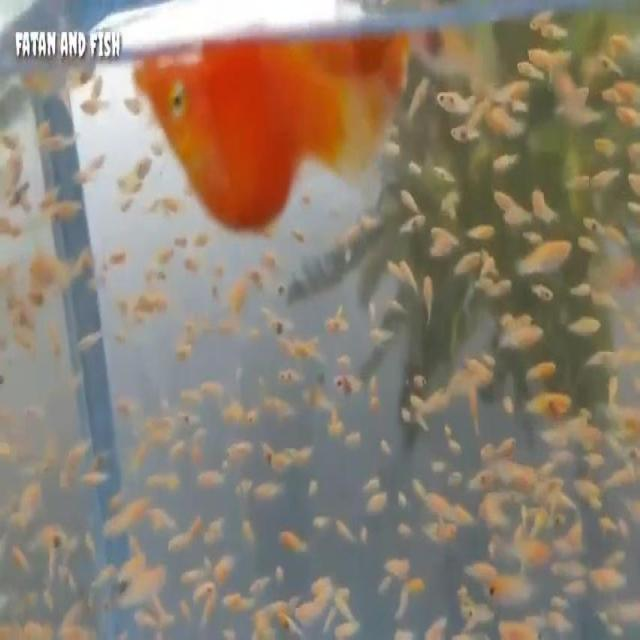PlatyFish: (127, 48, 399, 236)
